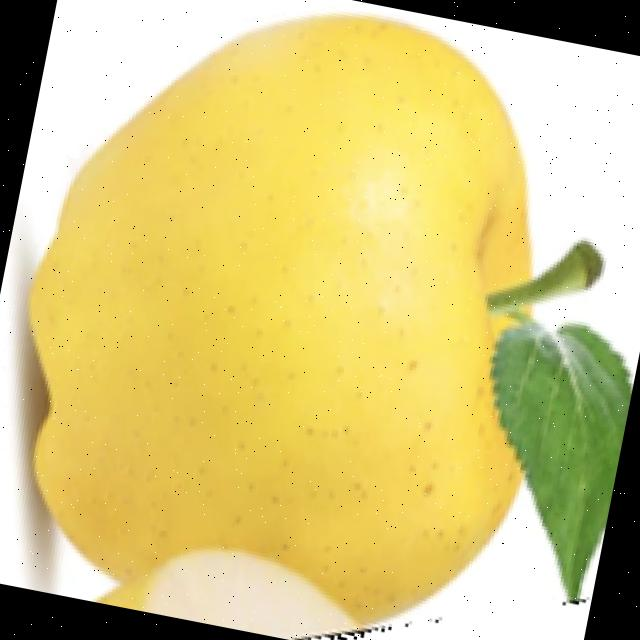apple: (7, 8, 637, 640)
